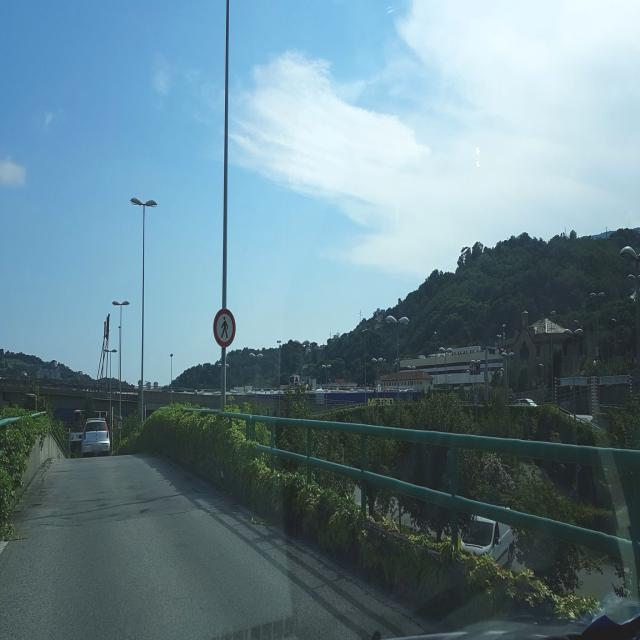car: (81, 417, 111, 457)
